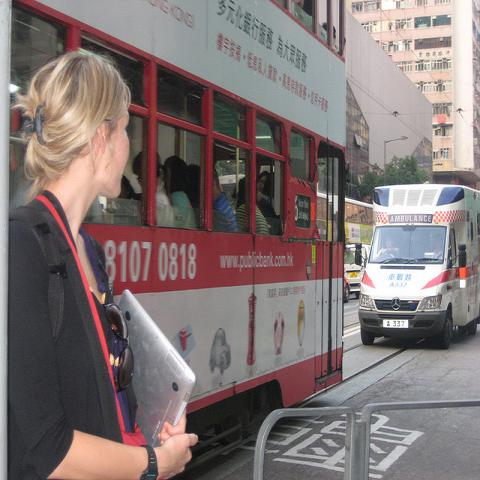bus: (8, 3, 350, 451)
truck: (358, 182, 480, 351)
